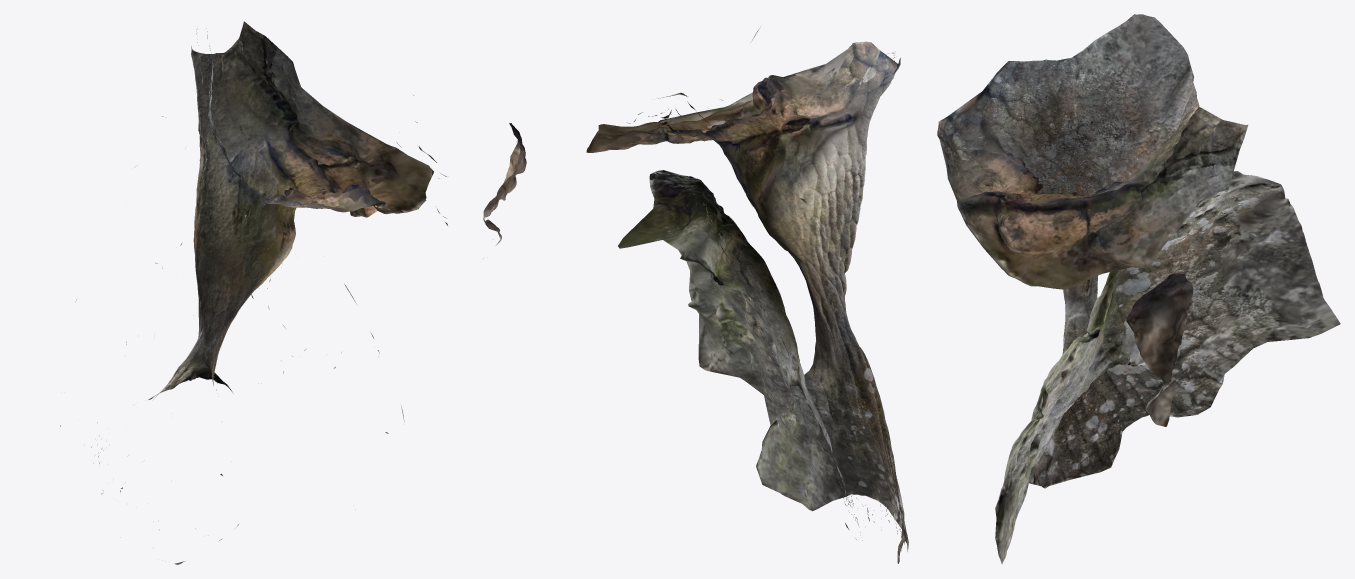
The picture shows the model from 3 angles, left to right: view 1: azimuth 30°, elevation 25°; view 2: azimuth 150°, elevation 25°; view 3: azimuth 270°, elevation 25°; orthographic projection. The views are drawn at different scales.
Size of the model in its own units: 1.14 by 1.5 by 1.05.
1 material, 1 textured.
